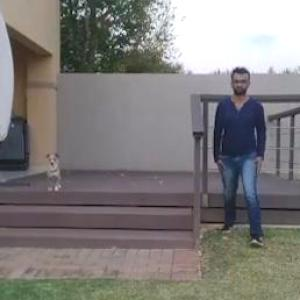follow: (213, 66, 266, 236)
